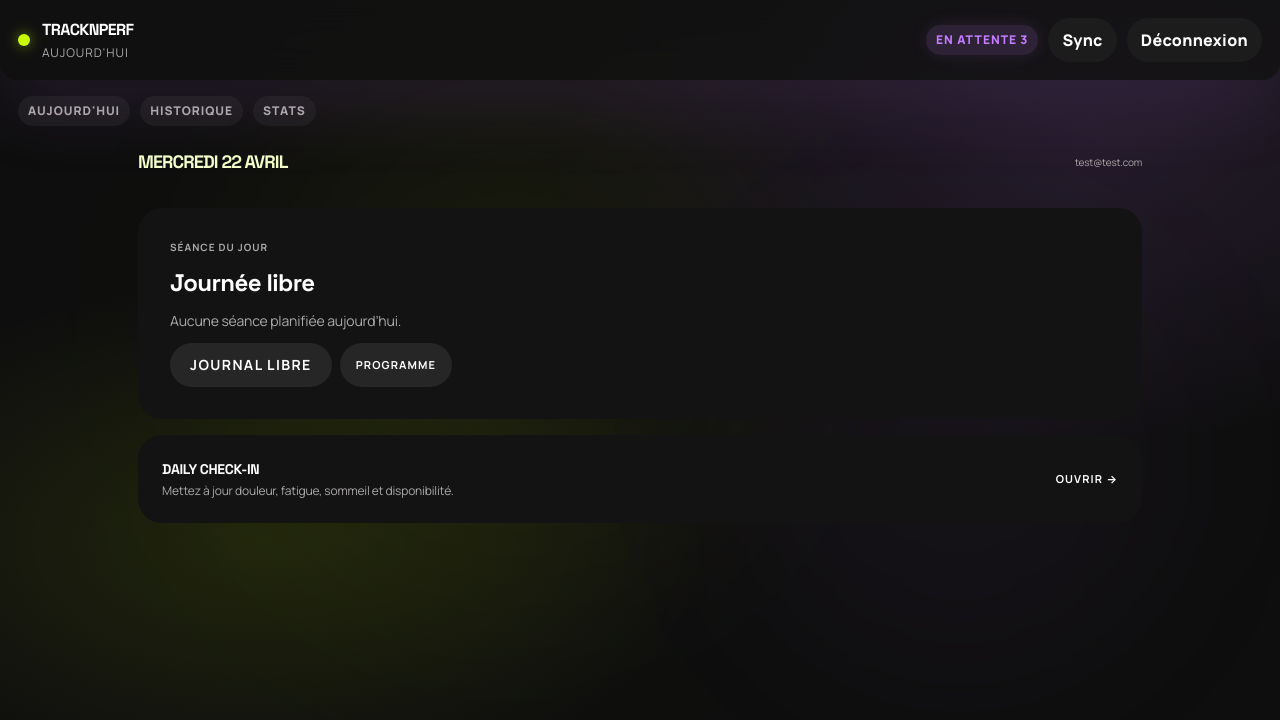
TodayPage sync drawer › shows FORCER LA SYNCHRO button when sync drawer is open
Click the button "Sync". click: (1083, 40)
box: left=1048, top=18, right=1117, bottom=62
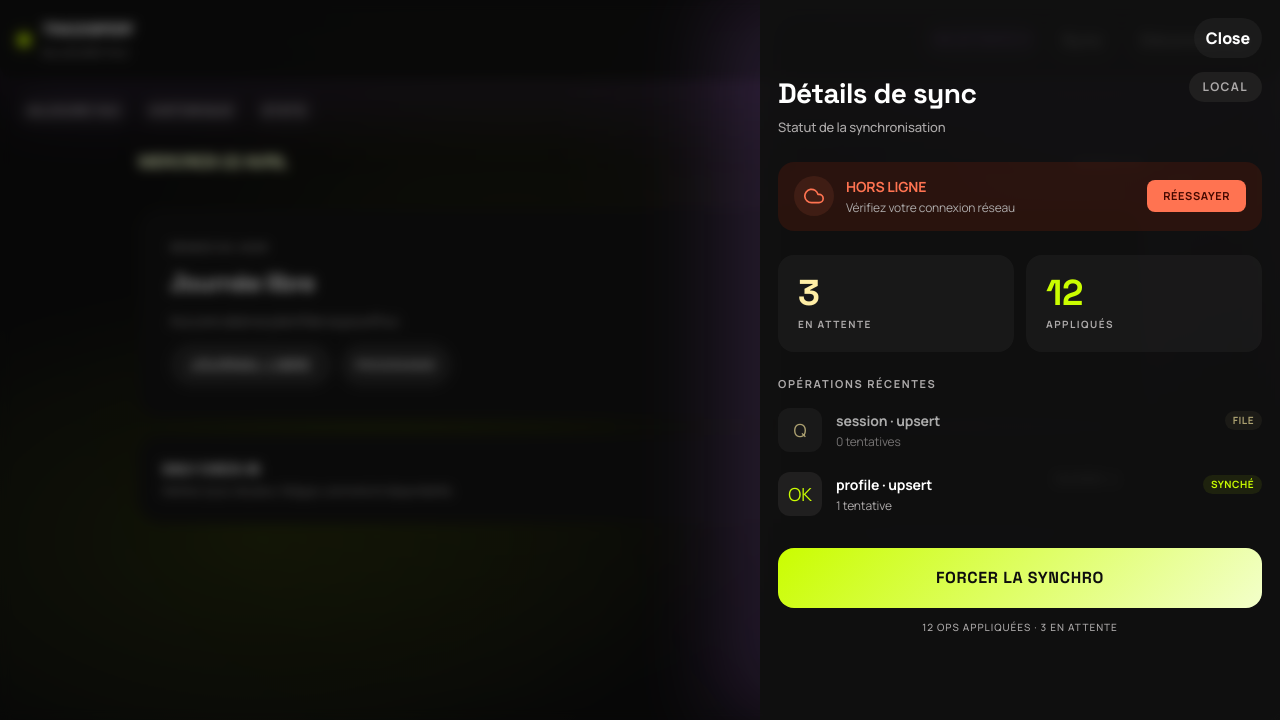
Expected: the button "FORCER LA SYNCHRO" is shown, left=778, top=548, right=1262, bottom=608
